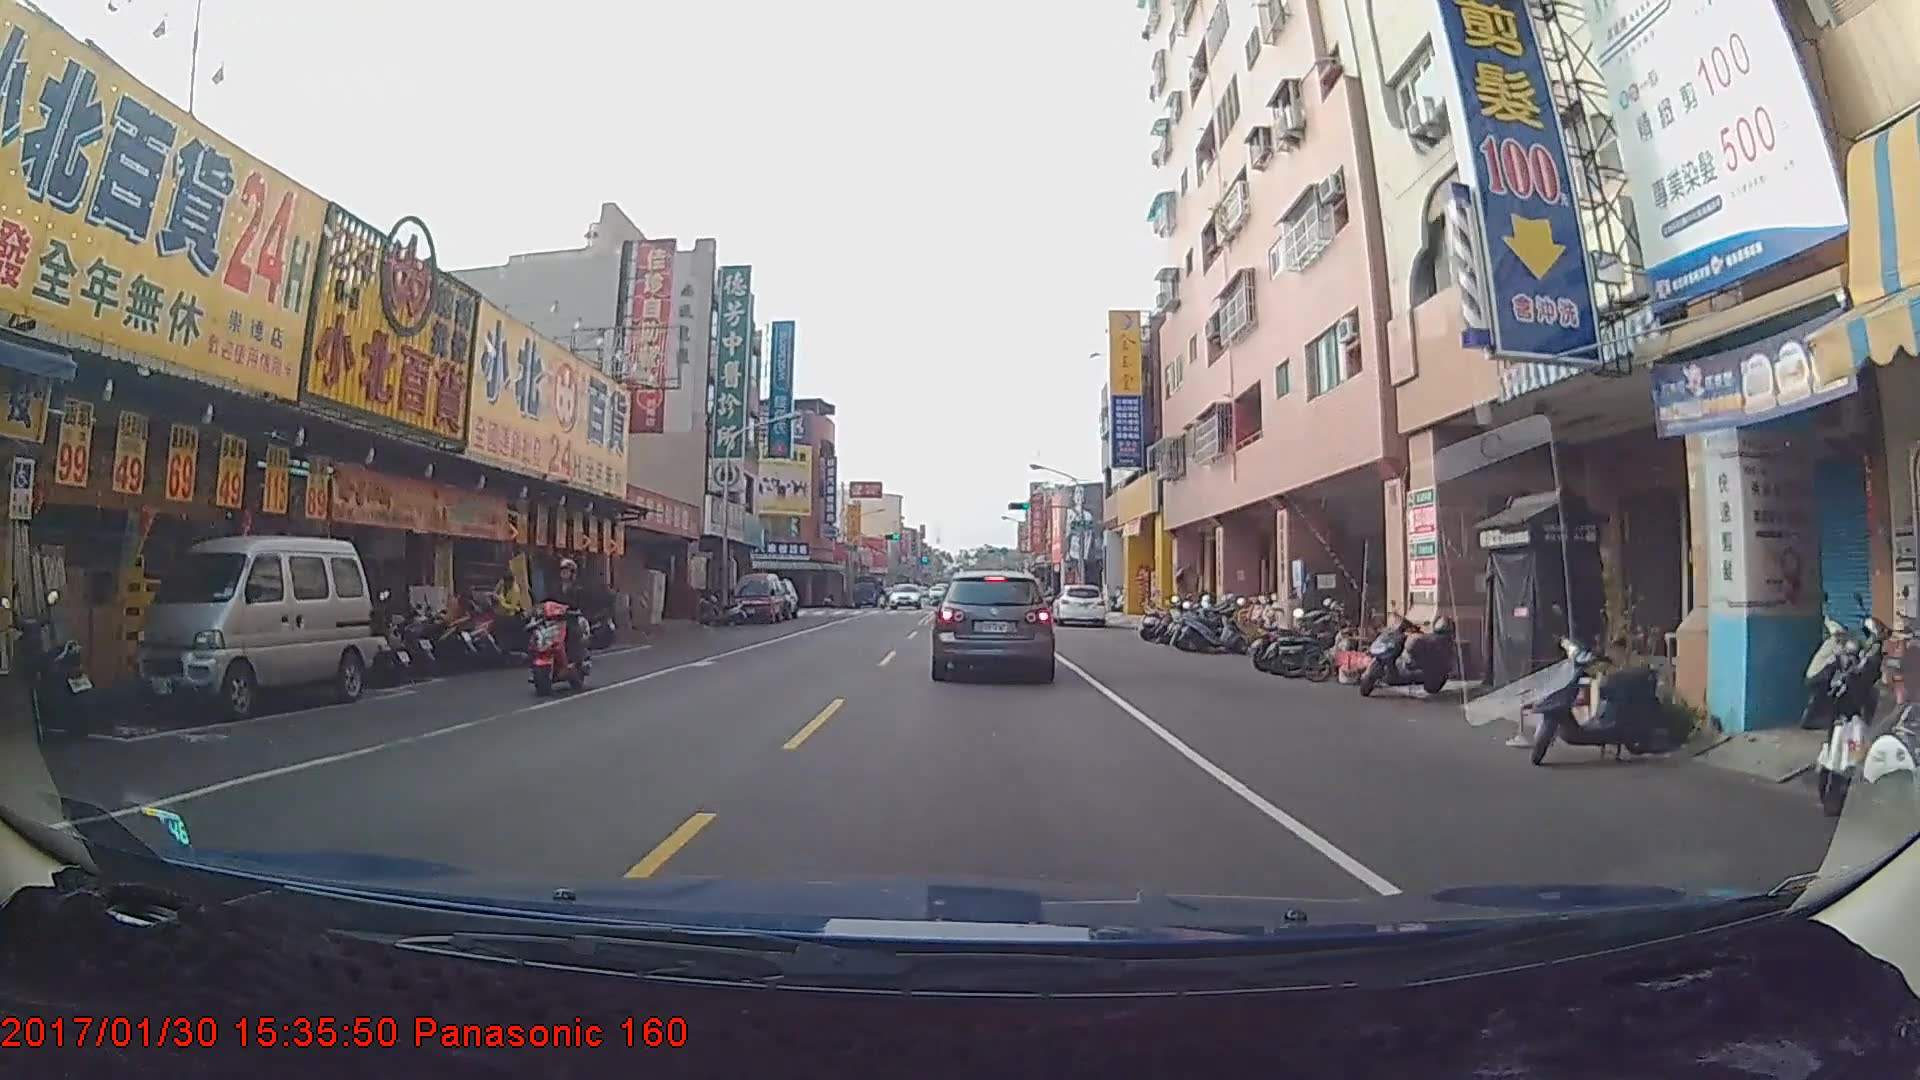pedestrian: (486, 571, 525, 657)
rider: (521, 554, 601, 701)
vehicle: (130, 539, 366, 721), (931, 569, 1054, 680), (730, 572, 783, 624), (1049, 584, 1106, 628), (887, 580, 919, 605)
